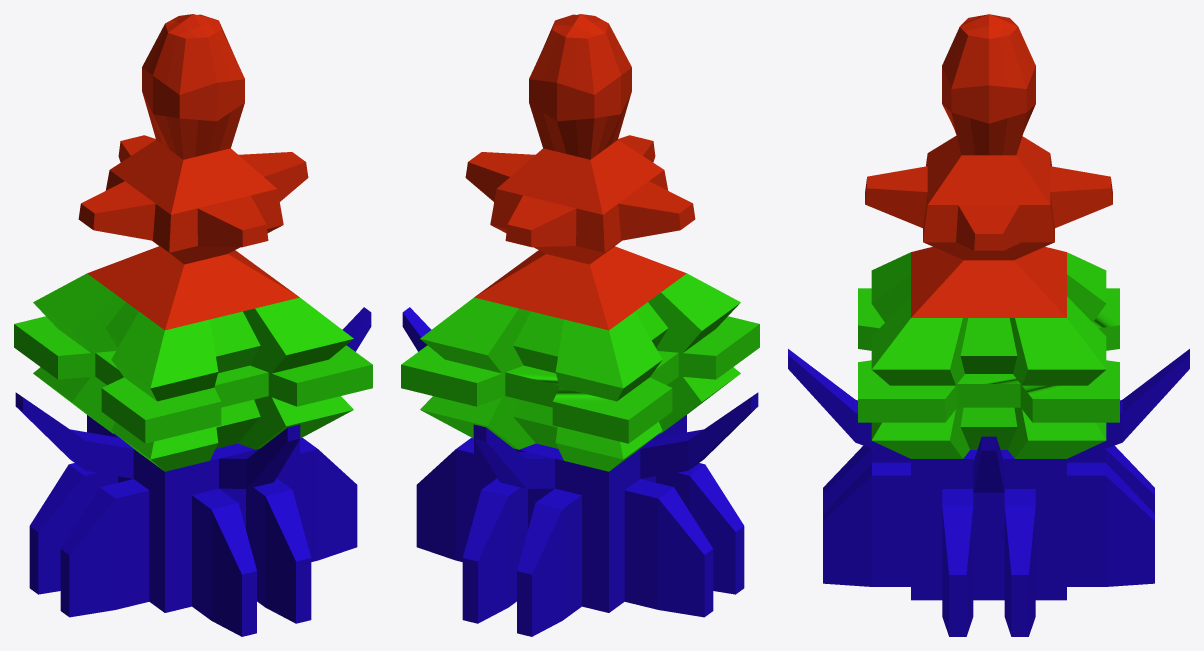
Rendered from BasicTower2.fbx.
The picture shows the model from 3 angles, left to right: view 1: azimuth 30°, elevation 25°; view 2: azimuth 150°, elevation 25°; view 3: azimuth 270°, elevation 25°; orthographic projection.
Visible parts, largest first — view 1: Bottom, Middle, Top; view 2: Bottom, Middle, Top; view 3: Bottom, Top, Middle.
Boxes of the visible parts, left/top/right/bottom form: Bottom: left=15, top=307, right=371, bottom=636; Middle: left=14, top=273, right=372, bottom=471; Top: left=78, top=14, right=308, bottom=330; Bottom: left=402, top=307, right=758, bottom=636; Middle: left=401, top=273, right=759, bottom=471; Top: left=465, top=14, right=695, bottom=330; Bottom: left=788, top=349, right=1189, bottom=636; Top: left=865, top=14, right=1112, bottom=317; Middle: left=858, top=252, right=1119, bottom=458.
Bounding box in the file's own units: 516 × 784 × 516.
